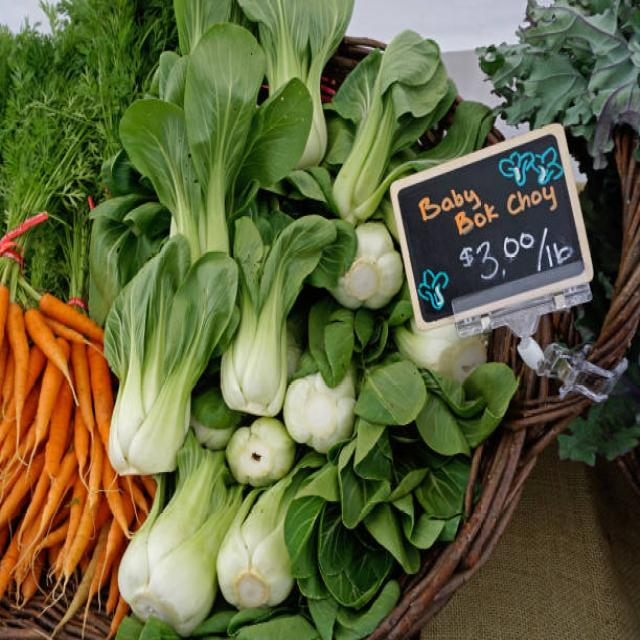Carrot: (9, 296, 40, 480), (86, 323, 120, 473), (44, 372, 68, 509), (41, 288, 88, 331)
